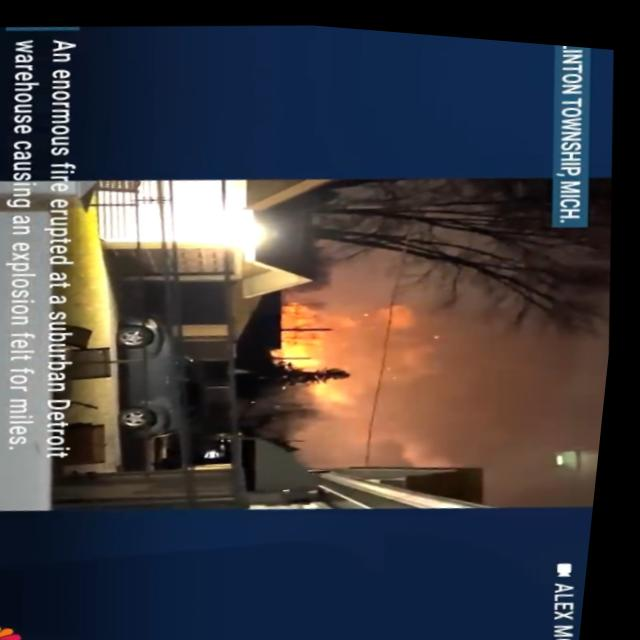Fire: (285, 301, 343, 366), (319, 368, 373, 402)
